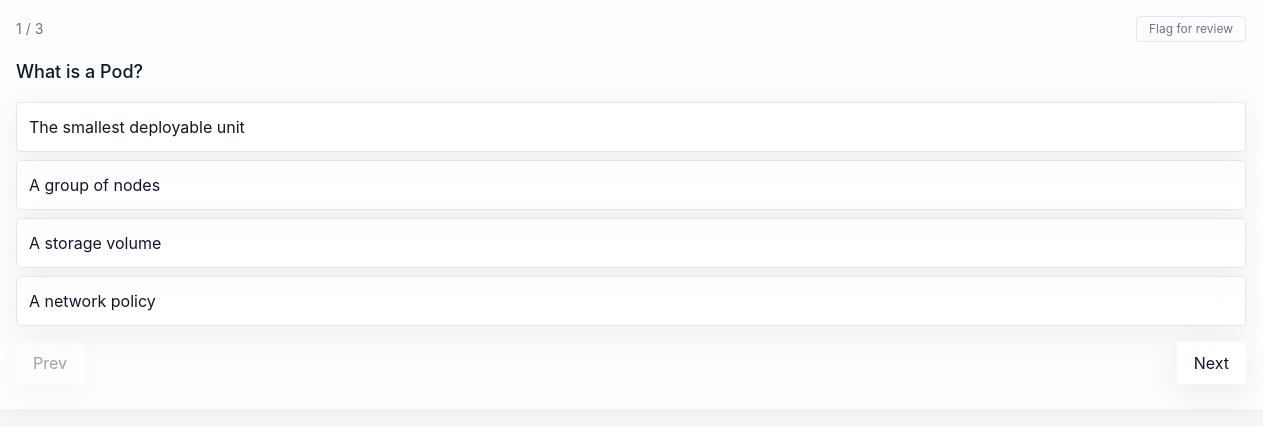
Test: QuizBlock Phase 3 scaffolds › quiz_card_navigation — Next advances to question 2, Prev returns to 1
The image size is (1263, 427).
expect the heading "What is a Pod?" is shown: met, box x1=16 y1=61 x2=143 y2=82
Click the button "Next": (1211, 363) x1=1177 y1=342 x2=1246 y2=384
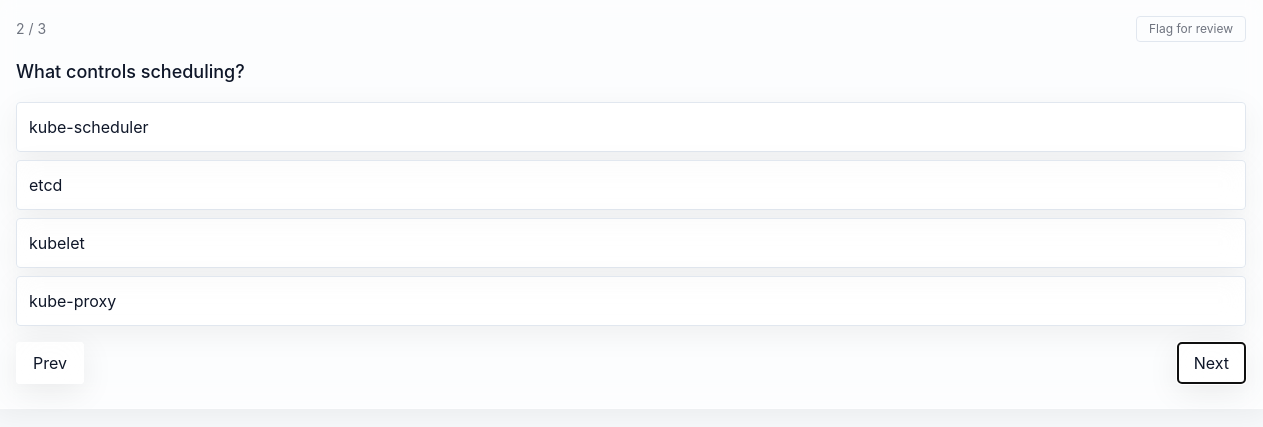
expect the heading "What controls scheduling?" is shown: met, box x1=16 y1=61 x2=245 y2=82
Click the button "Prev": (50, 363) x1=16 y1=342 x2=84 y2=384
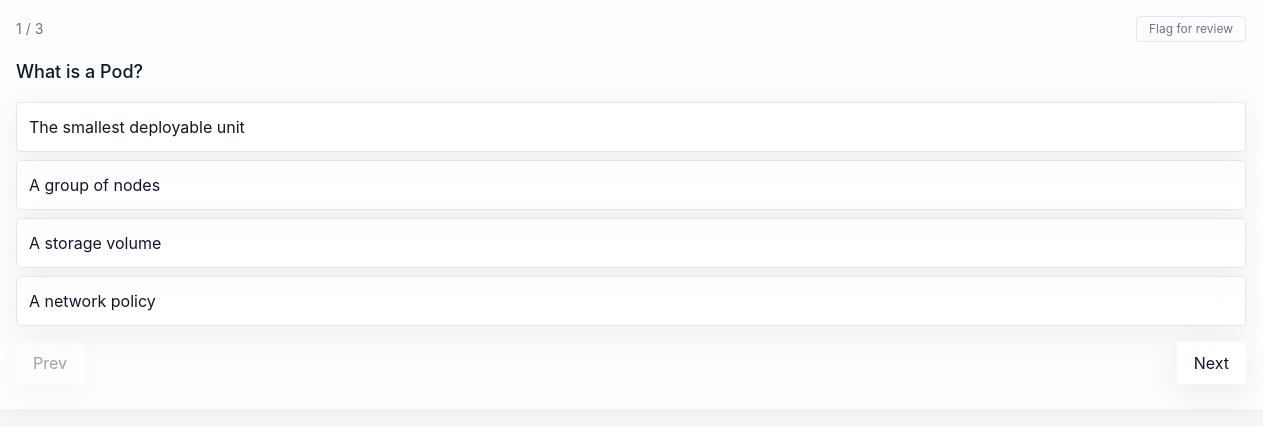
expect the heading "What is a Pod?" is shown: met, box x1=16 y1=61 x2=143 y2=82
